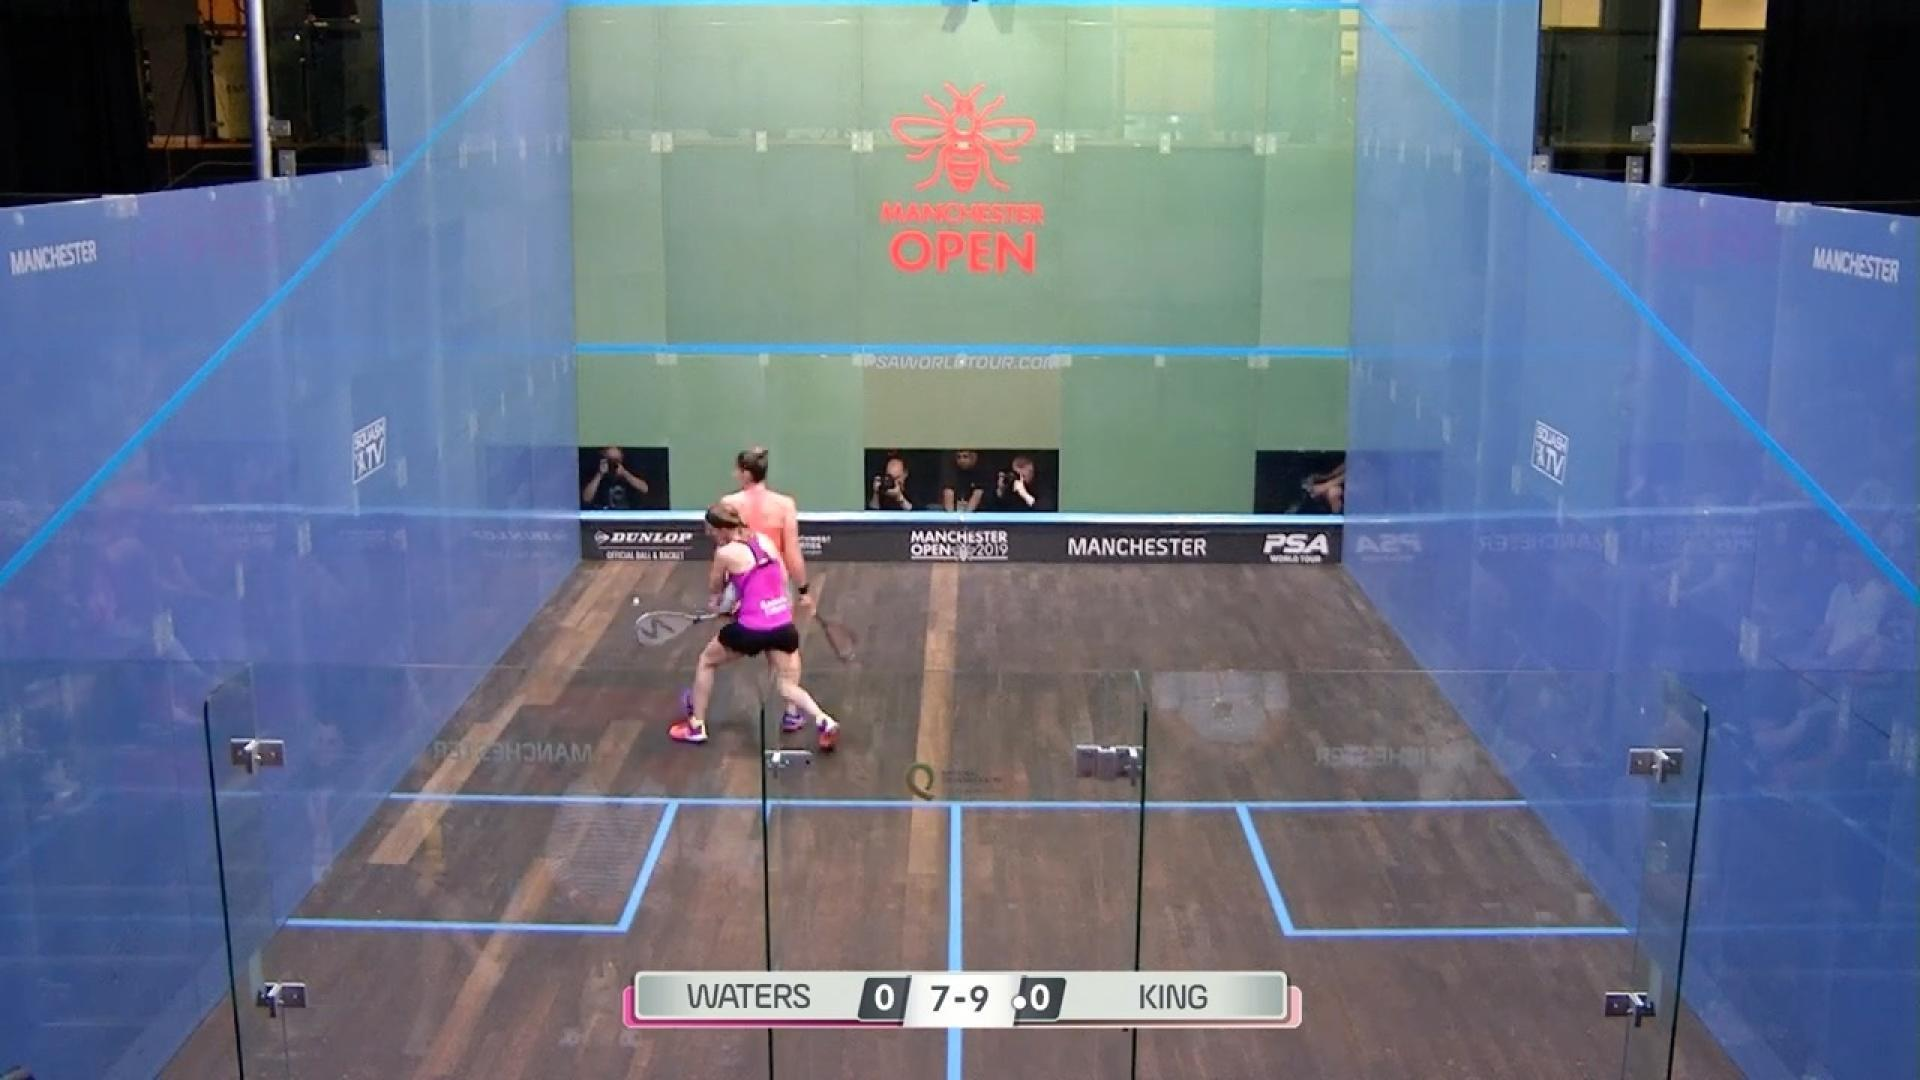Squash-Ball: (615, 583, 667, 628)
